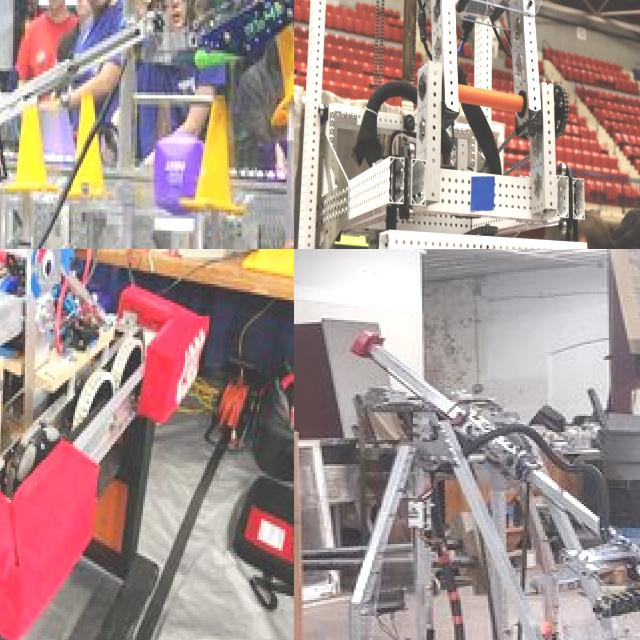FRC-Robots: (294, 290, 640, 640), (294, 0, 586, 249), (0, 249, 160, 640), (0, 5, 153, 249)
